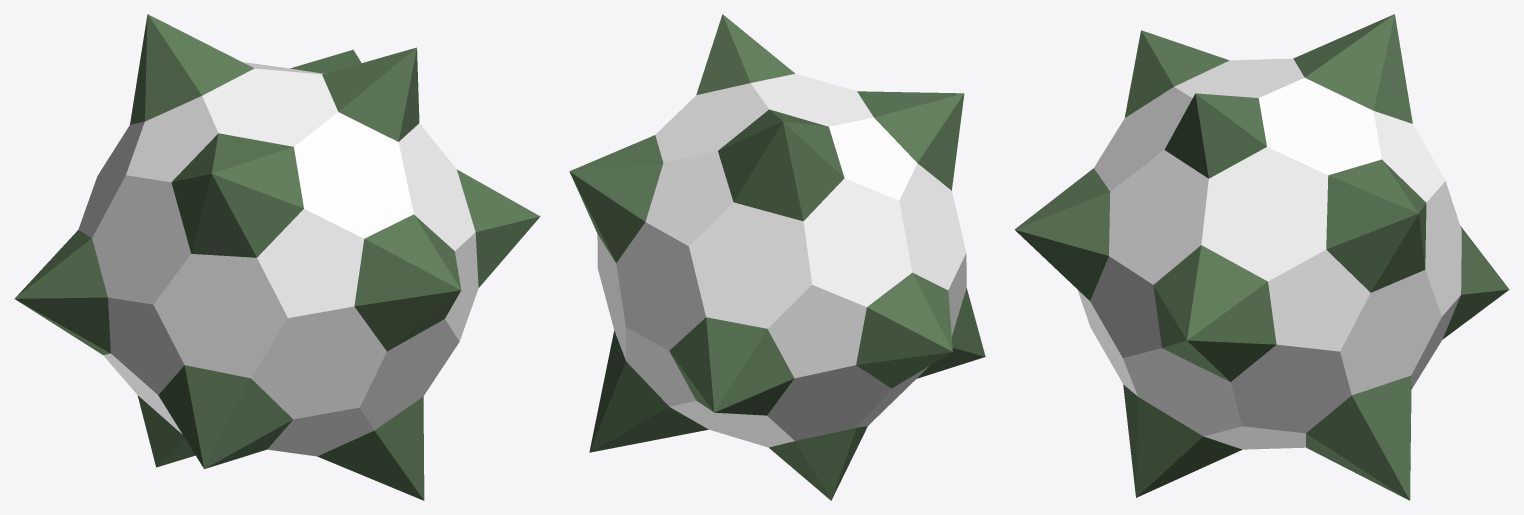
The model's file is Pallone_punte.fbx.
3 renders of one model, left to right at view 1: azimuth 30°, elevation 25°; view 2: azimuth 150°, elevation 25°; view 3: azimuth 270°, elevation 25°, orthographic. The views are drawn at different scales.
Parts seen in each view (by area): view 1: Icosphere.005; view 2: Icosphere.005; view 3: Icosphere.005.
Boxes of the visible parts, bbox=[...] form: Icosphere.005: bbox=[14, 14, 540, 500]; Icosphere.005: bbox=[569, 14, 985, 500]; Icosphere.005: bbox=[1014, 14, 1509, 500].
Bounding box in the file's own units: 59.94 × 54.94 × 59.19.
